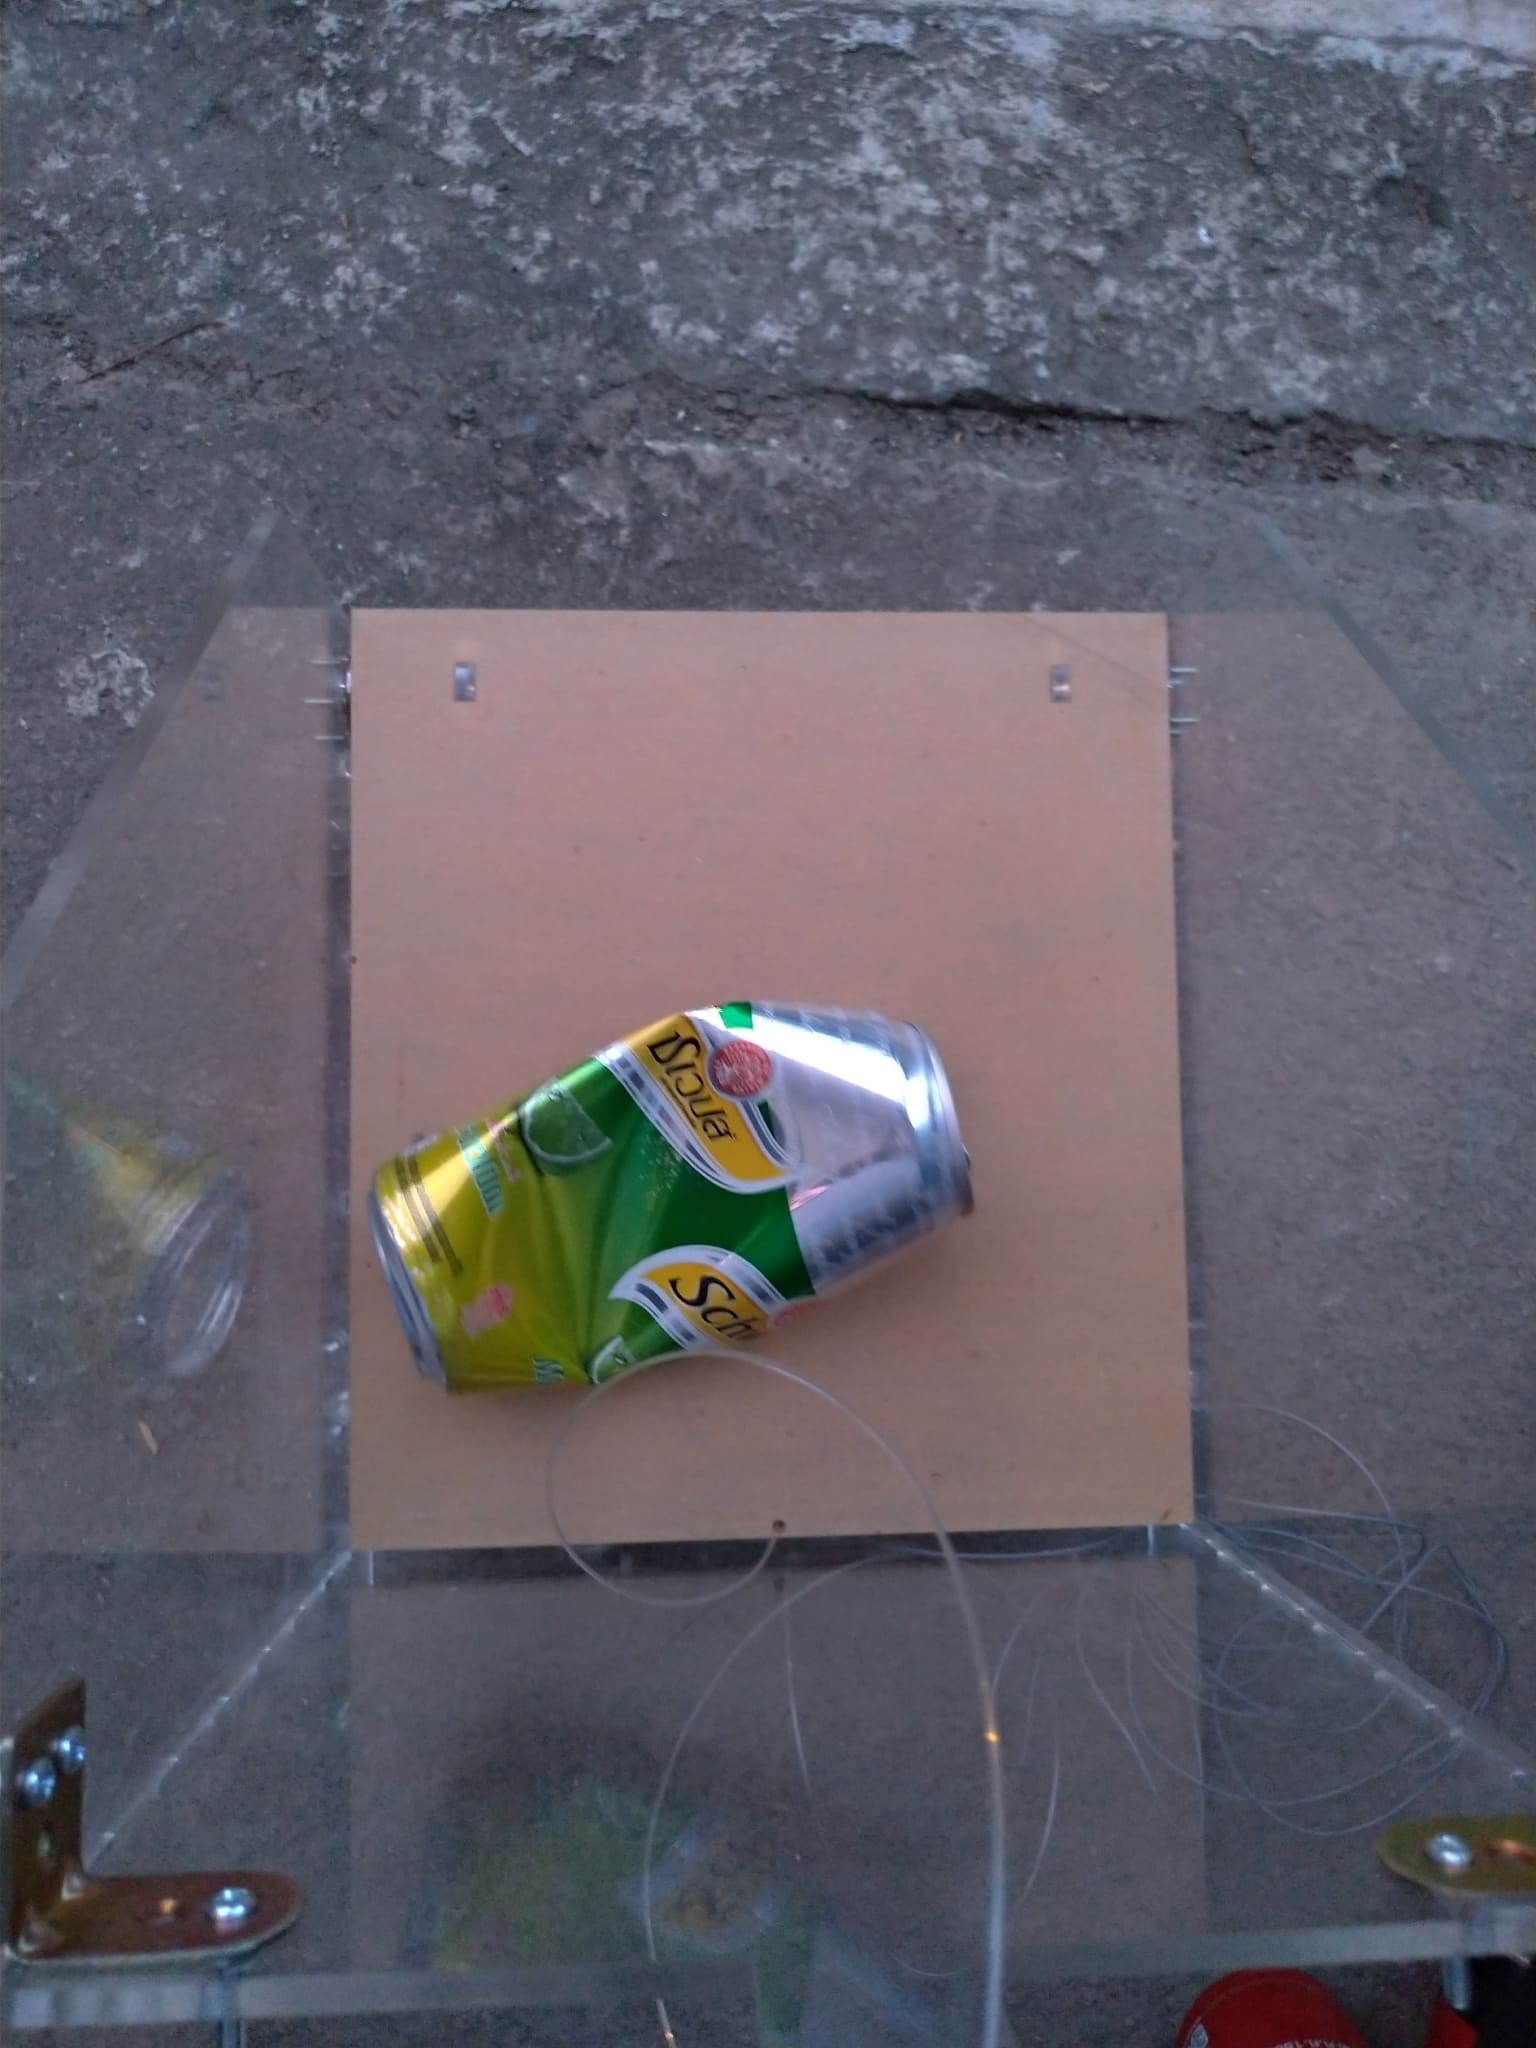AlCan: (374, 1000, 975, 1400)
